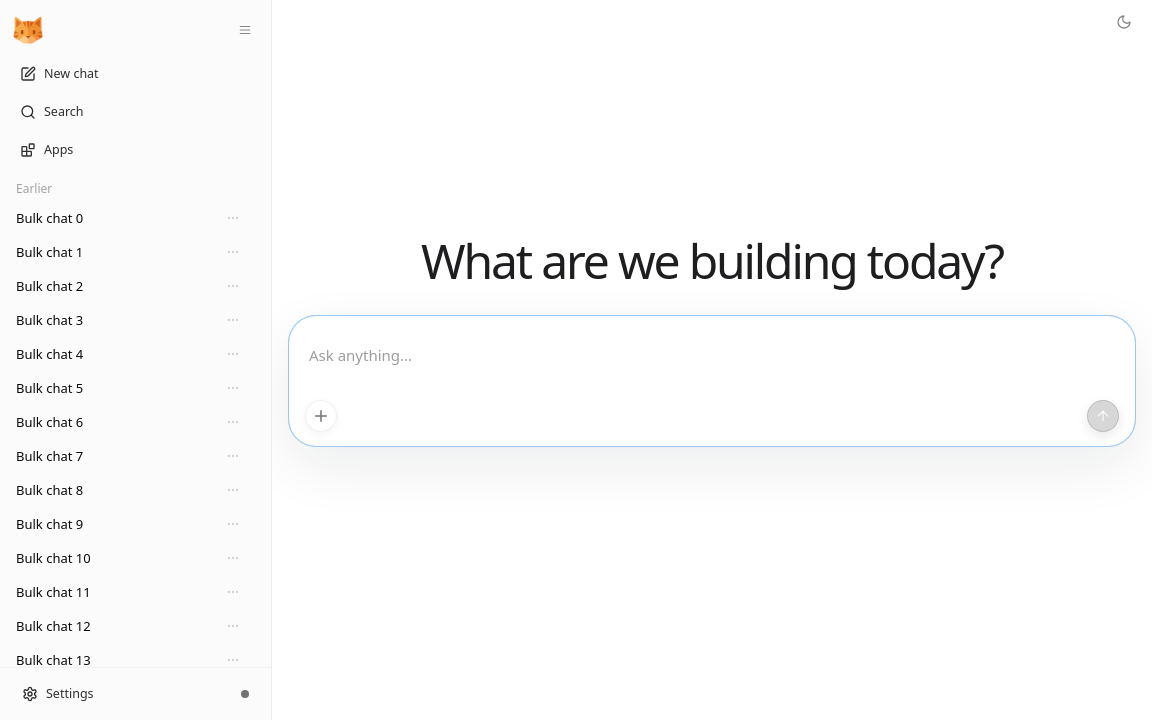
Test: App layout › keeps large sidebars light while search still covers every chat
Check: the button "Bulk chat 0" is shown, box x1=16 y1=202 x2=189 y2=234
Check: the text "Hidden target" is not shown
Click the button "Search" at (136, 112), box x1=8 y1=96 x2=263 y2=128
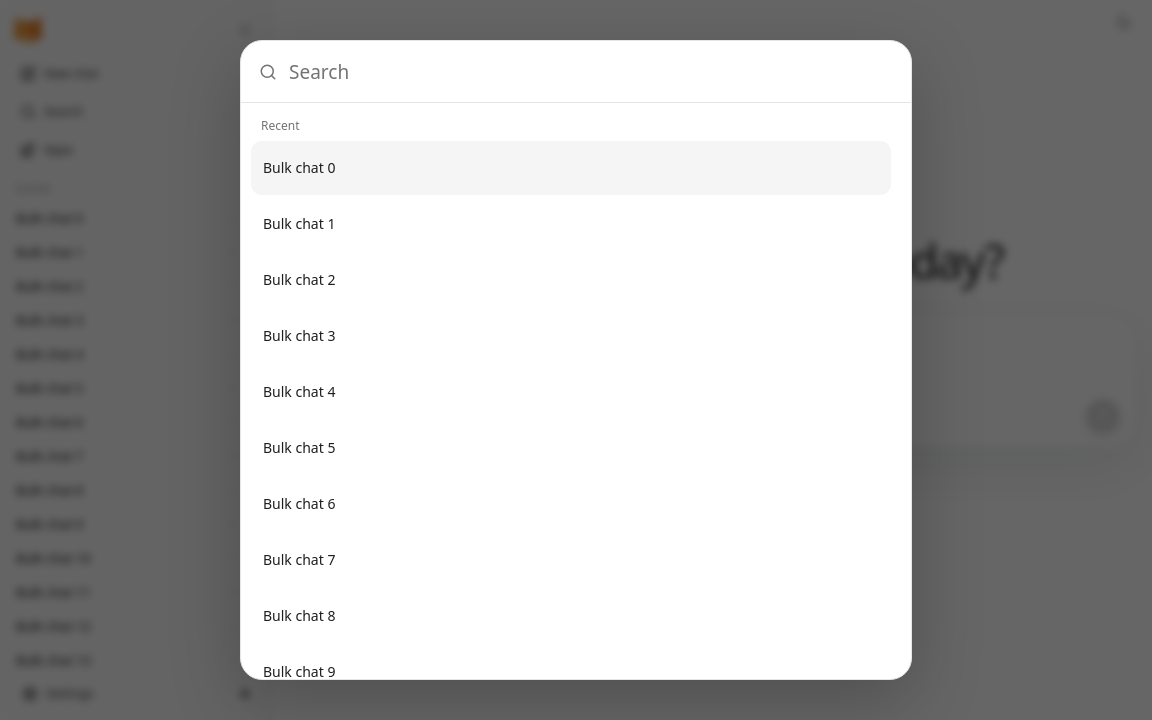
Type "hidden" into the field labelled "Search" at (591, 72), box x1=289 y1=41 x2=893 y2=102
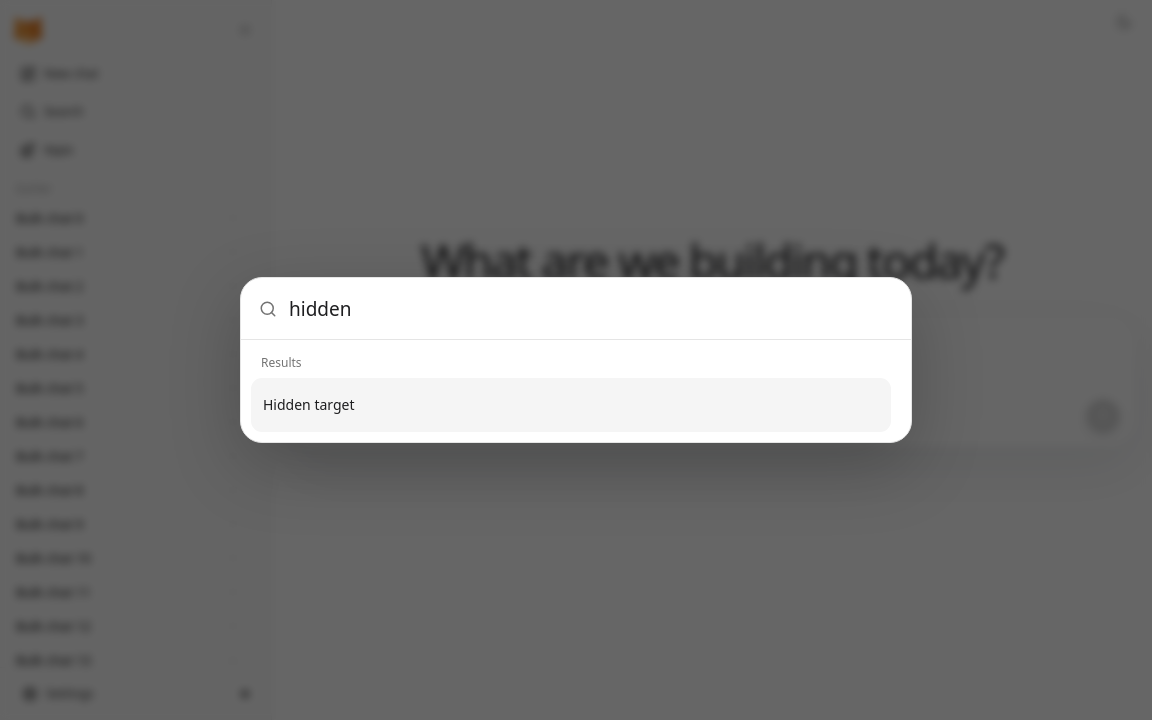
Check: the text "Hidden target" is shown, box x1=263 y1=395 x2=354 y2=414
